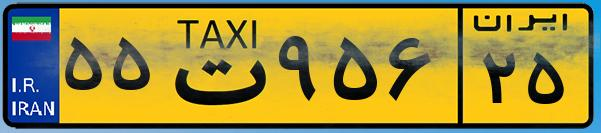2: (475, 38, 525, 113)
5: (330, 28, 385, 110), (57, 26, 110, 100), (525, 38, 570, 115), (110, 28, 158, 98)
6: (385, 28, 445, 110)
9: (270, 28, 330, 110)
ت: (158, 12, 270, 120)
